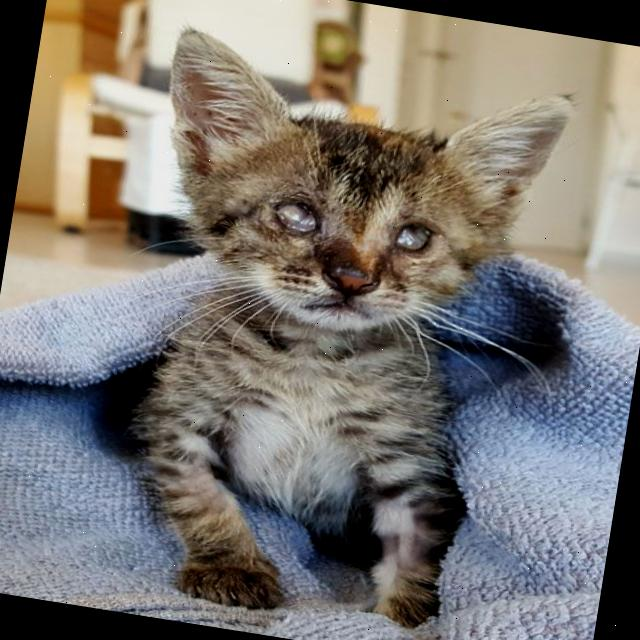cat-eye: (261, 188, 332, 245), (375, 211, 449, 261)
